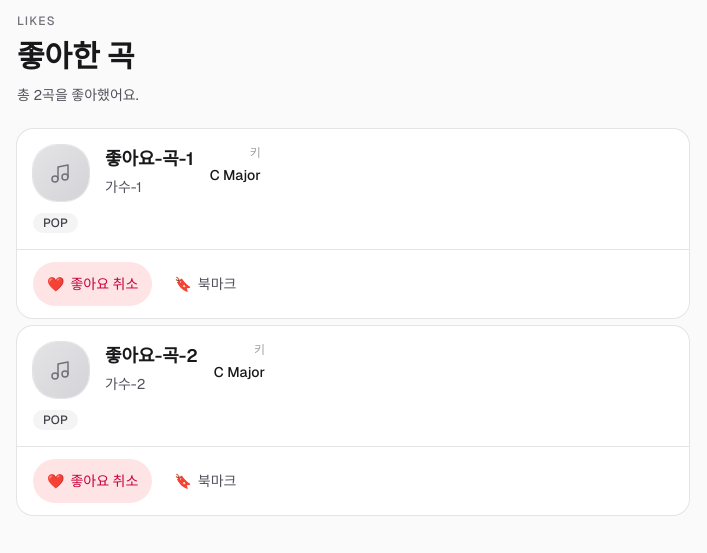
Scenario: /likes 페이지 mutation race 가드 (PR #993 후속, PR #1048 패턴 확장) › 시나리오 3: 401 응답 → 해당 song 카드에만 alert 노출 + store 롤백 (다른 카드 오염 없음)
This screenshot has width=707, height=553.
Click the button with aria-label "좋아요-곡-1 좋아요 취소". click: (93, 284)
box: [33,262,152,306]
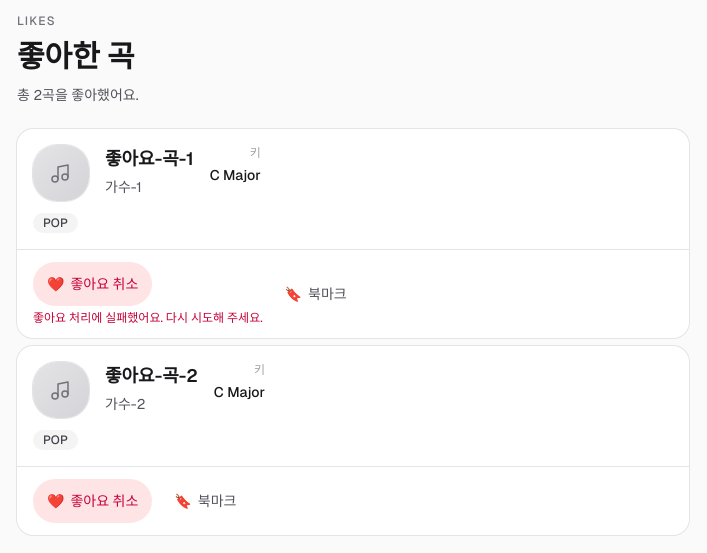
Expected: the message "좋아요 처리에 실패했어요. 다시 시도해 주세요." is shown, [33,310,263,326]
